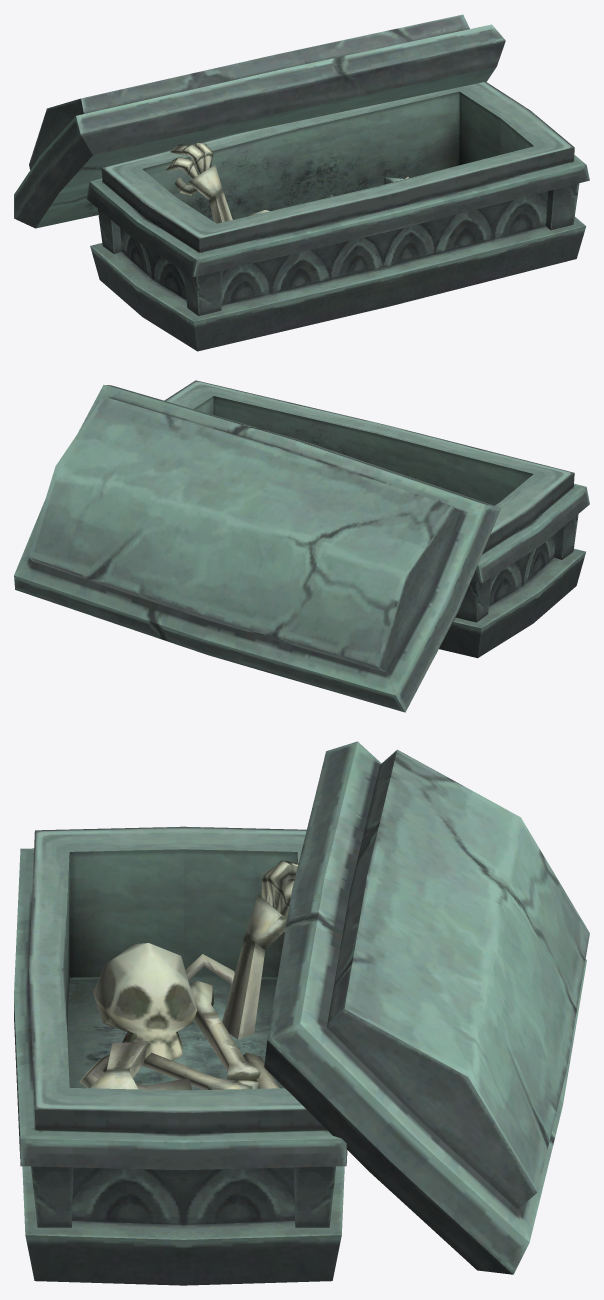
The model's file is crypt_tomb_opened03.fbx.
3 renders of one model, top to bottom at view 1: azimuth 30°, elevation 25°; view 2: azimuth 150°, elevation 25°; view 3: azimuth 270°, elevation 25°, orthographic. The views are drawn at different scales.
Parts seen in each view (by area): view 1: crypt_tomb_opened03-0; view 2: crypt_tomb_opened03-0; view 3: crypt_tomb_opened03-0.
Part boxes in pixels (box(x1,y1,x2,y2)): crypt_tomb_opened03-0: box(14, 14, 589, 351); crypt_tomb_opened03-0: box(14, 380, 589, 712); crypt_tomb_opened03-0: box(14, 741, 589, 1285).
Size of the model in its own units: 2.95 by 1.16 by 2.3.
